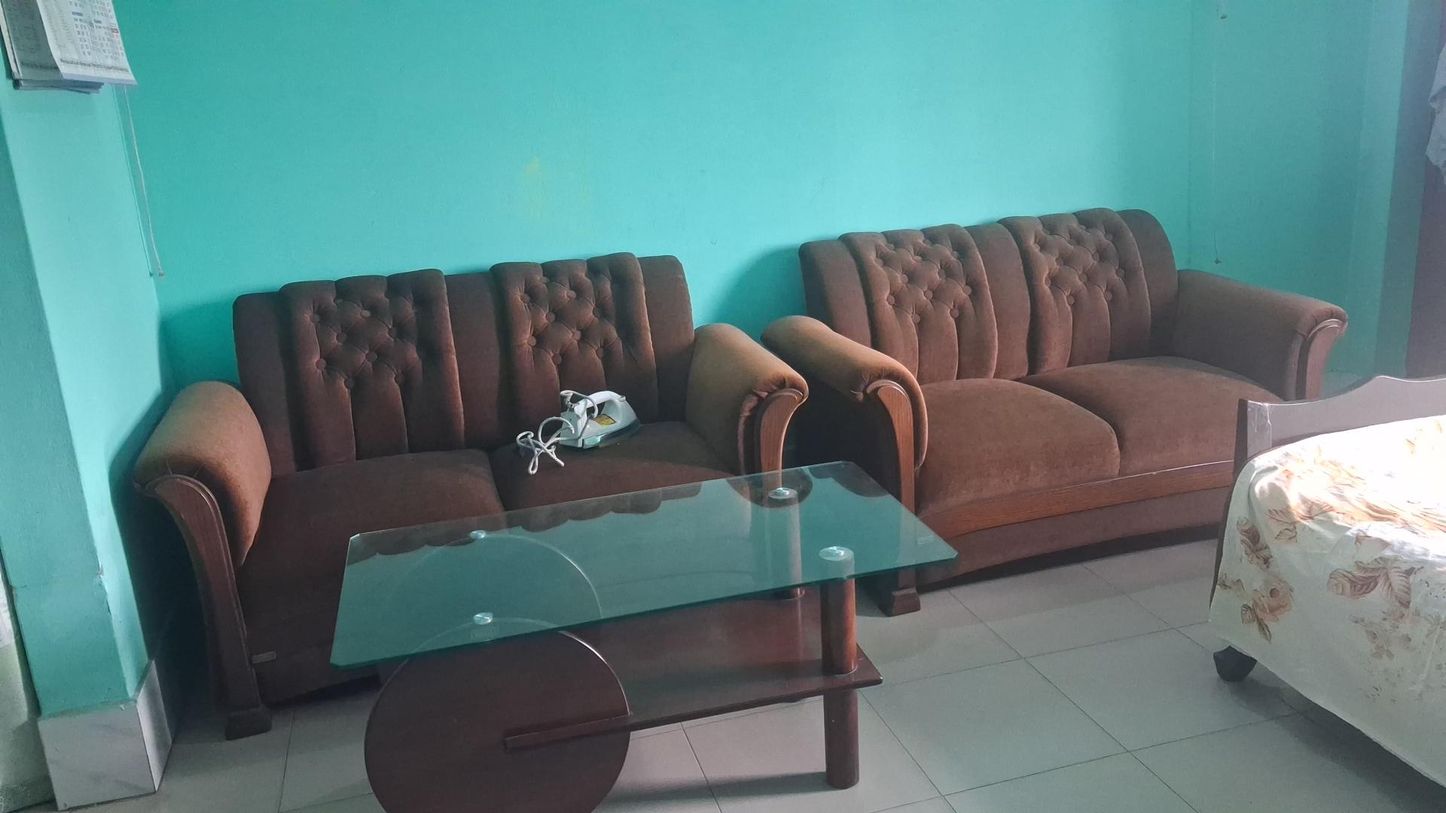Electric Iron: (521, 390, 646, 477)
Table: (325, 460, 957, 809)
